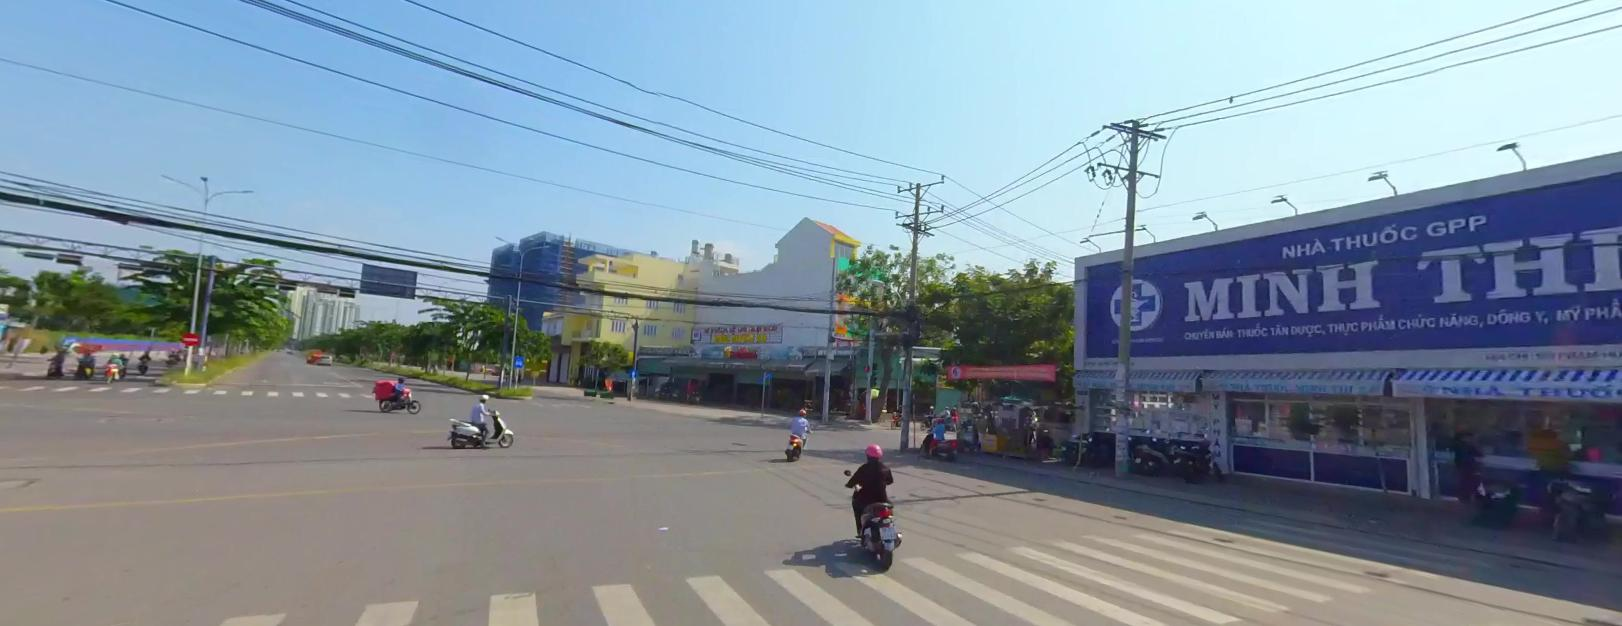Cam nguoc chieu: (181, 330, 199, 344), (181, 330, 198, 343), (182, 330, 198, 343), (182, 331, 197, 344)
